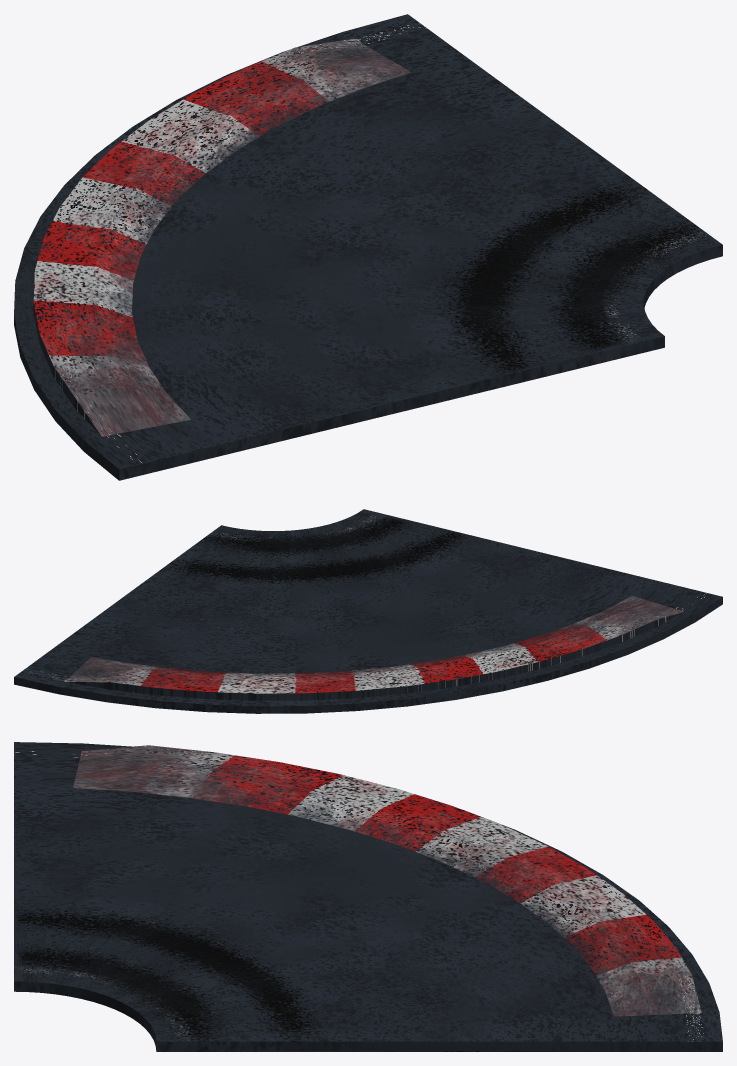
Rendered from short_right_turn.fbx.
The picture shows the model from 3 angles, top to bottom: view 1: azimuth 30°, elevation 25°; view 2: azimuth 150°, elevation 25°; view 3: azimuth 270°, elevation 25°; orthographic projection. The views are drawn at different scales.
Visible parts, largest first — view 1: TurnRight; view 2: TurnRight; view 3: TurnRight.
Boxes of the visible parts, x1,y1,x2,y2 form: TurnRight: (14,14,722,480); TurnRight: (14,509,722,713); TurnRight: (14,742,722,1051).
Bounding box in the file's own units: 1000 × 31.32 × 1000.
